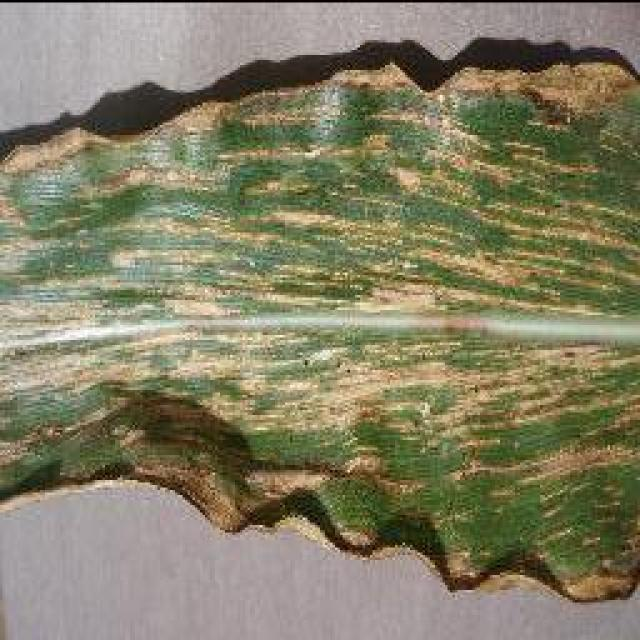Corn_Grey_Leaf_Spot: (40, 92, 640, 480)
